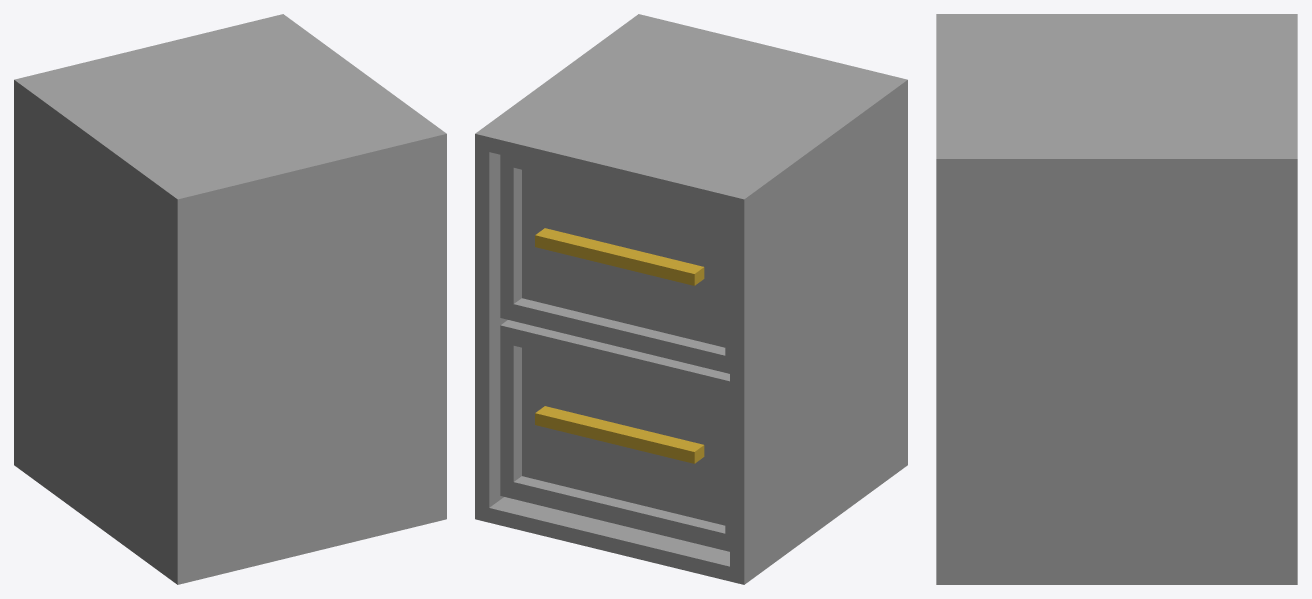
File: Blockout_SideTable_04.fbx
3 renders of one model, left to right at view 1: azimuth 30°, elevation 25°; view 2: azimuth 150°, elevation 25°; view 3: azimuth 270°, elevation 25°, orthographic. The views are drawn at different scales.
Visible parts, largest first — view 1: Dresser_unit_02; view 2: Dresser_unit_02, Dresser_Drawer_01, Dresser_Drawer_02; view 3: Dresser_unit_02.
Part boxes in pixels (<box>): Dresser_unit_02: <box>14,14,446,584</box>; Dresser_unit_02: <box>475,14,907,584</box>; Dresser_Drawer_01: <box>500,320,729,551</box>; Dresser_Drawer_02: <box>500,155,729,373</box>; Dresser_unit_02: <box>936,14,1297,584</box>.
Bounding box in the file's own units: 47.5 × 65 × 50.
